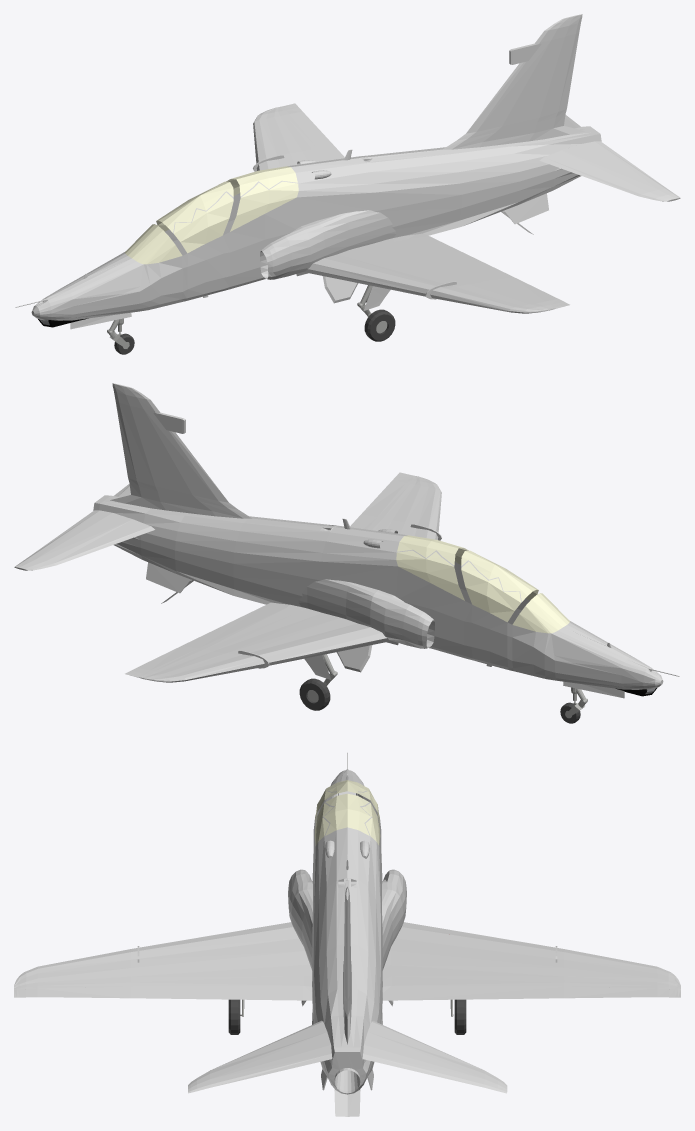
The model's file is bae_hawk_t2.glb.
The picture shows the model from 3 angles, top to bottom: view 1: azimuth 30°, elevation 25°; view 2: azimuth 150°, elevation 25°; view 3: azimuth 270°, elevation 25°; orthographic projection. The views are drawn at different scales.
Parts seen in each view (by area): view 1: smallfins, wings, L.Elevator, canopy2, canopy3, Rudder, L.Slat, canopy1, L.Flap.001, L.Wheel, L.I.Door, R.Aileron.001; view 2: smallfins, wings, R.Elevator, canopy2, canopy3, Rudder, R.Slat.001, canopy1, R.Flap.001, R.Wheel, R.I.Door, L.Aileron.001; view 3: wings, smallfins, R.Elevator, L.Elevator, L.Flap.001, R.Flap.001, canopy3, L.Aileron.001, R.Aileron.001, L.Slat, R.Slat.001, canopy2 (+2 smaller).
Boxes of the visible parts, box(x1,y1,x2,y2) form: smallfins: box(15, 14, 601, 320); wings: box(253, 103, 569, 313); L.Elevator: box(539, 141, 680, 201); canopy2: box(156, 181, 233, 253); canopy3: box(226, 166, 298, 231); Rudder: box(539, 32, 579, 117); L.Slat: box(308, 258, 435, 293); canopy1: box(124, 224, 182, 264); L.Flap.001: box(409, 236, 512, 279); L.Wheel: box(364, 309, 395, 341); L.I.Door: box(322, 276, 358, 303); R.Aileron.001: box(289, 111, 333, 148); smallfins: box(93, 383, 679, 689); wings: box(125, 472, 441, 682); R.Elevator: box(14, 510, 154, 570); canopy2: box(461, 550, 538, 622); canopy3: box(396, 535, 468, 600); Rudder: box(115, 401, 155, 486); R.Slat.001: box(259, 627, 386, 662); canopy1: box(512, 593, 570, 633); R.Flap.001: box(182, 605, 285, 648); R.Wheel: box(299, 678, 330, 710); R.I.Door: box(336, 645, 372, 672); L.Aileron.001: box(361, 480, 405, 517); wings: box(14, 927, 680, 1000); smallfins: box(288, 752, 503, 1094); R.Elevator: box(362, 1021, 507, 1093); L.Elevator: box(188, 1020, 332, 1093); L.Flap.001: box(130, 986, 303, 1000); R.Flap.001: box(391, 986, 564, 1000); canopy3: box(314, 793, 380, 845); L.Aileron.001: box(37, 986, 130, 998); R.Aileron.001: box(564, 986, 657, 998); L.Slat: box(139, 922, 292, 950); R.Slat.001: box(402, 922, 555, 950); canopy2: box(315, 780, 379, 823).
Size of the model in its own units: 12.53 by 4.6 by 9.95.
